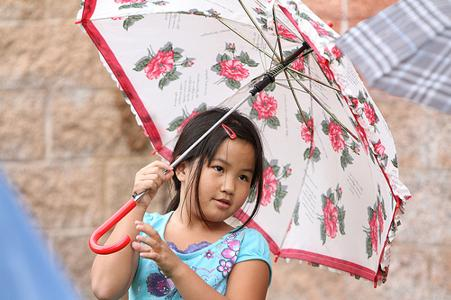person: (91, 107, 274, 300)
